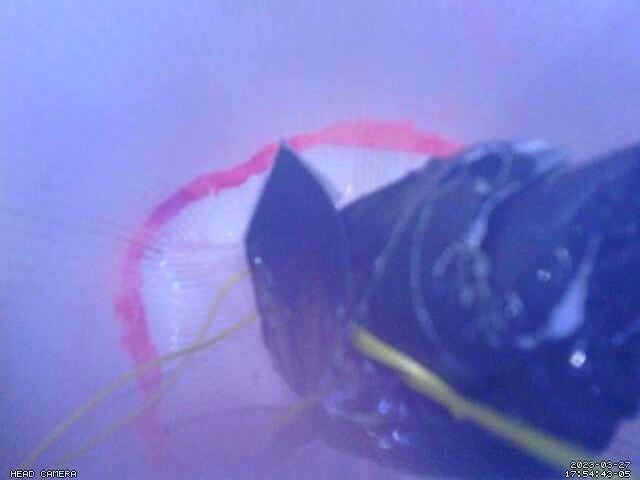head: (113, 116, 465, 480)
